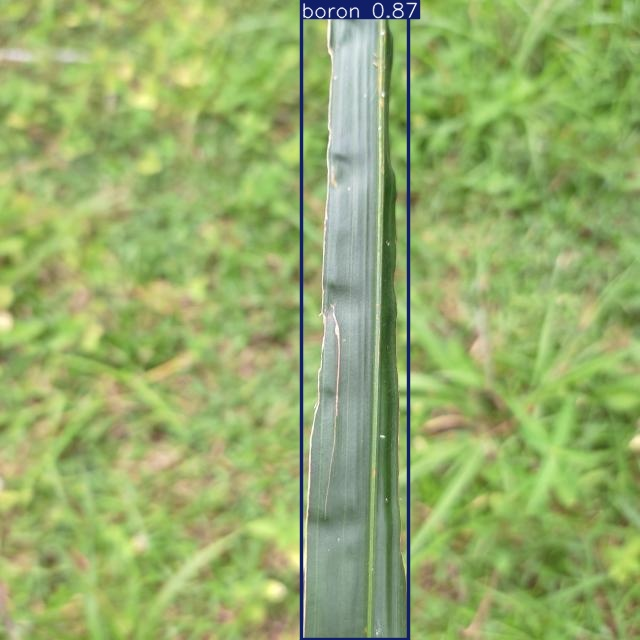nitrogen: (301, 0, 408, 640)
